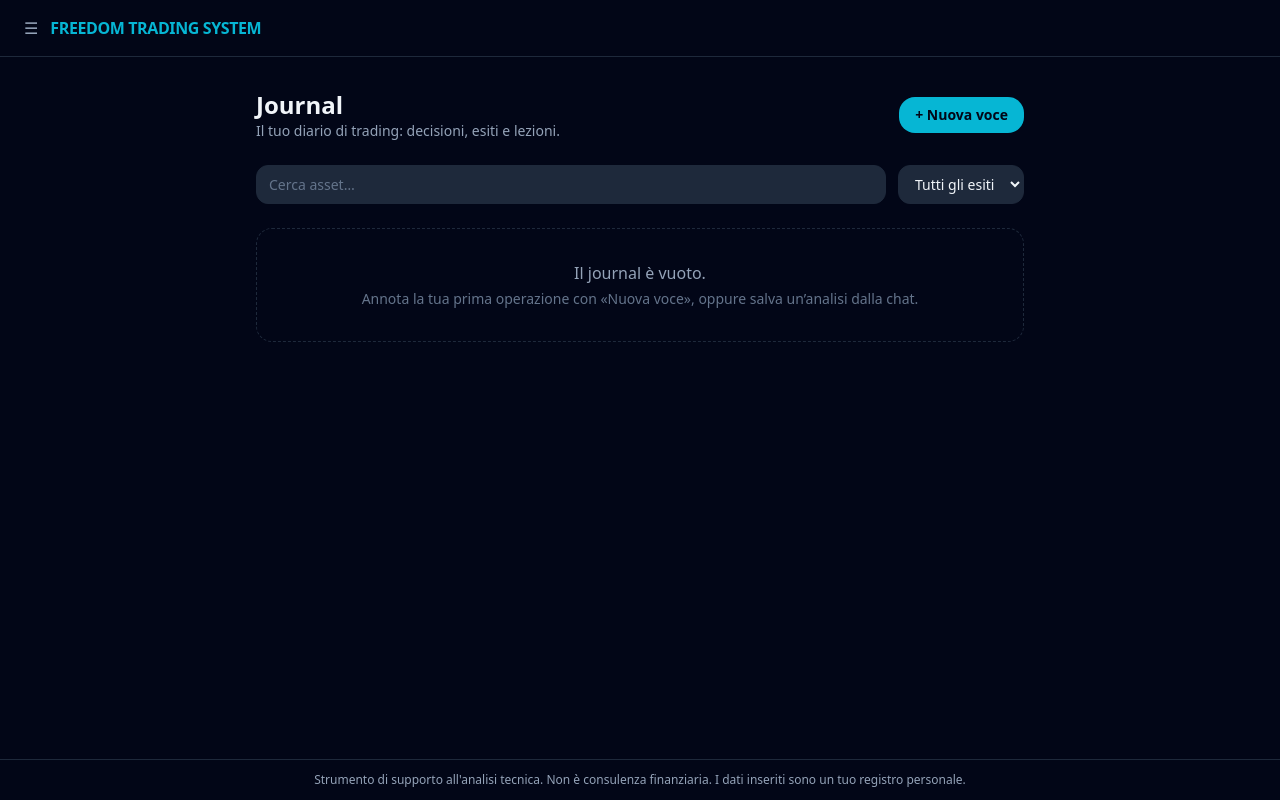
Test: Journal (pagina) › crea una nuova voce dal form
Expected: the text "Il journal è vuoto." is shown, [574,262,706,284]
Click the button "+ Nuova voce".
click(962, 115)  # box [899,97,1024,133]
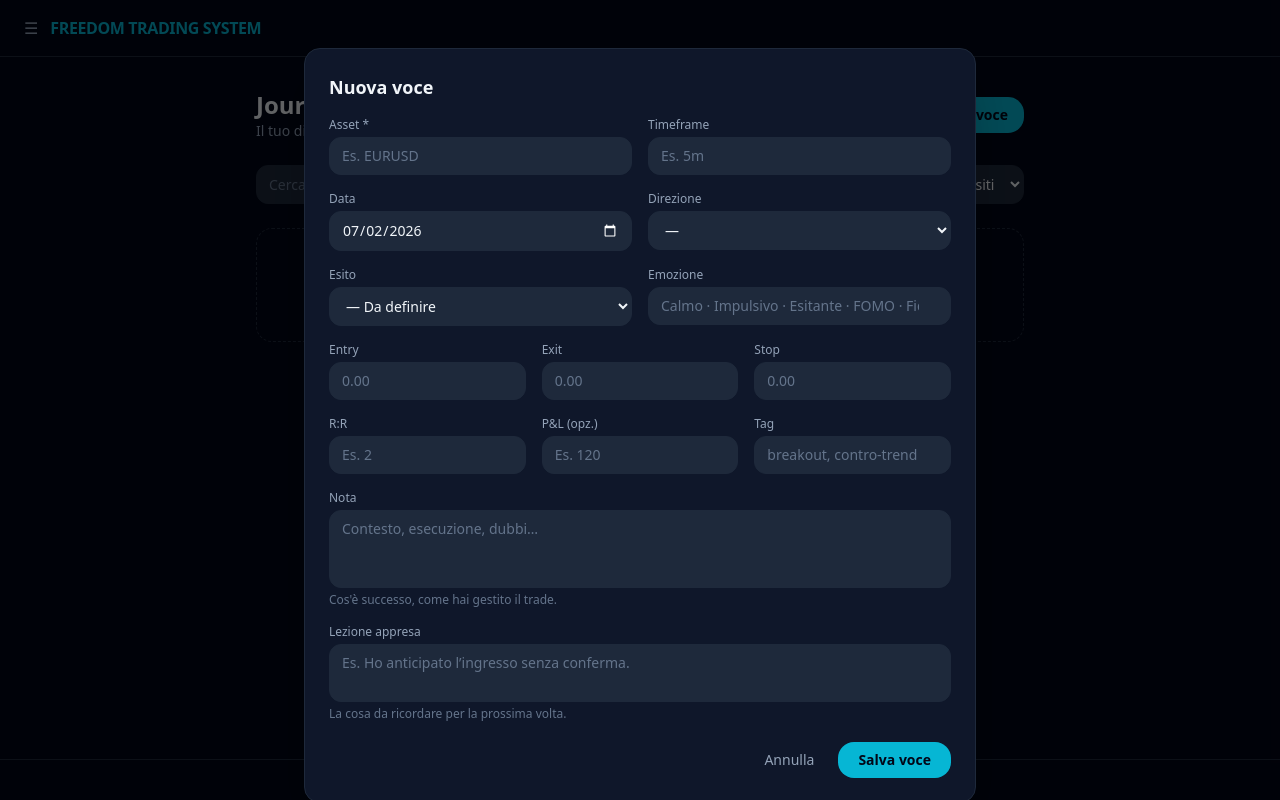
Type "GBPUSD" into the field labelled "Asset *".
click(480, 156); type("GBPUSD")  # box [329,137,632,175]
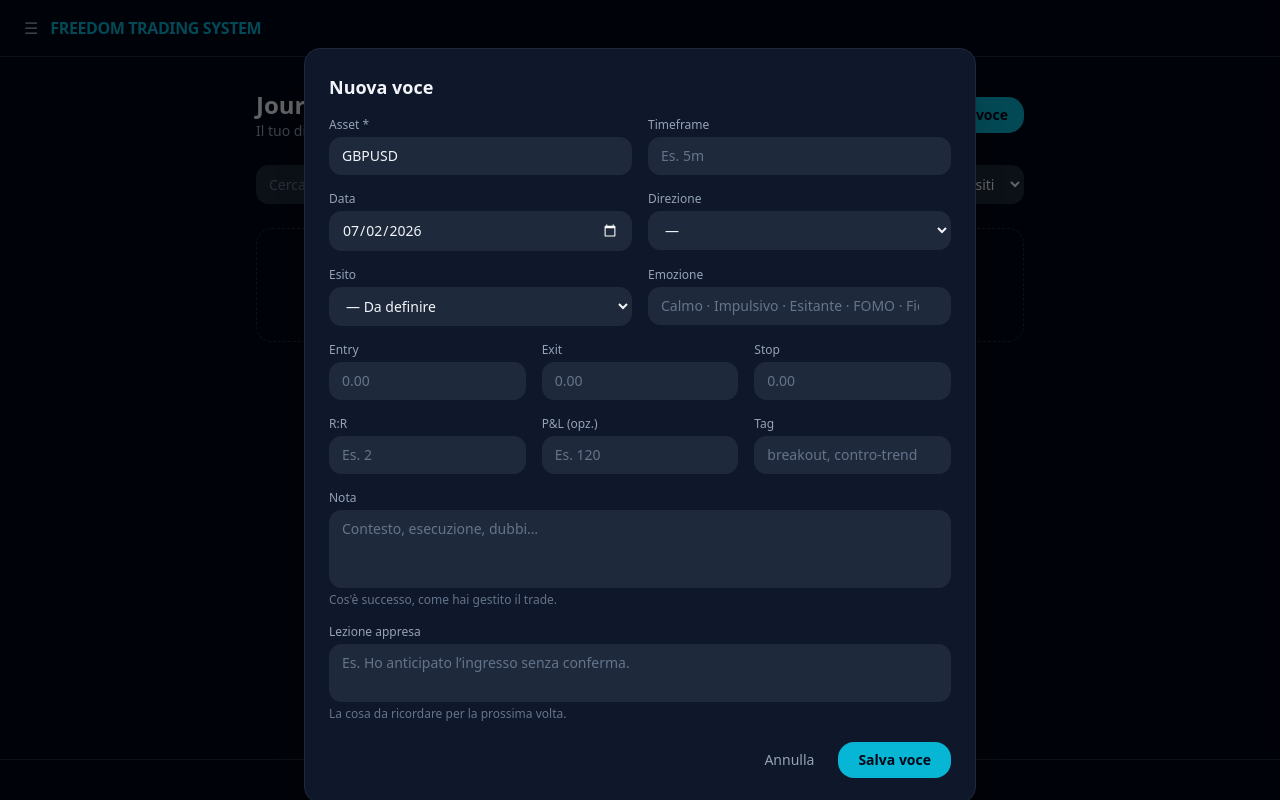
Click the button "Salva voce".
click(895, 760)  # box [838,742,951,778]
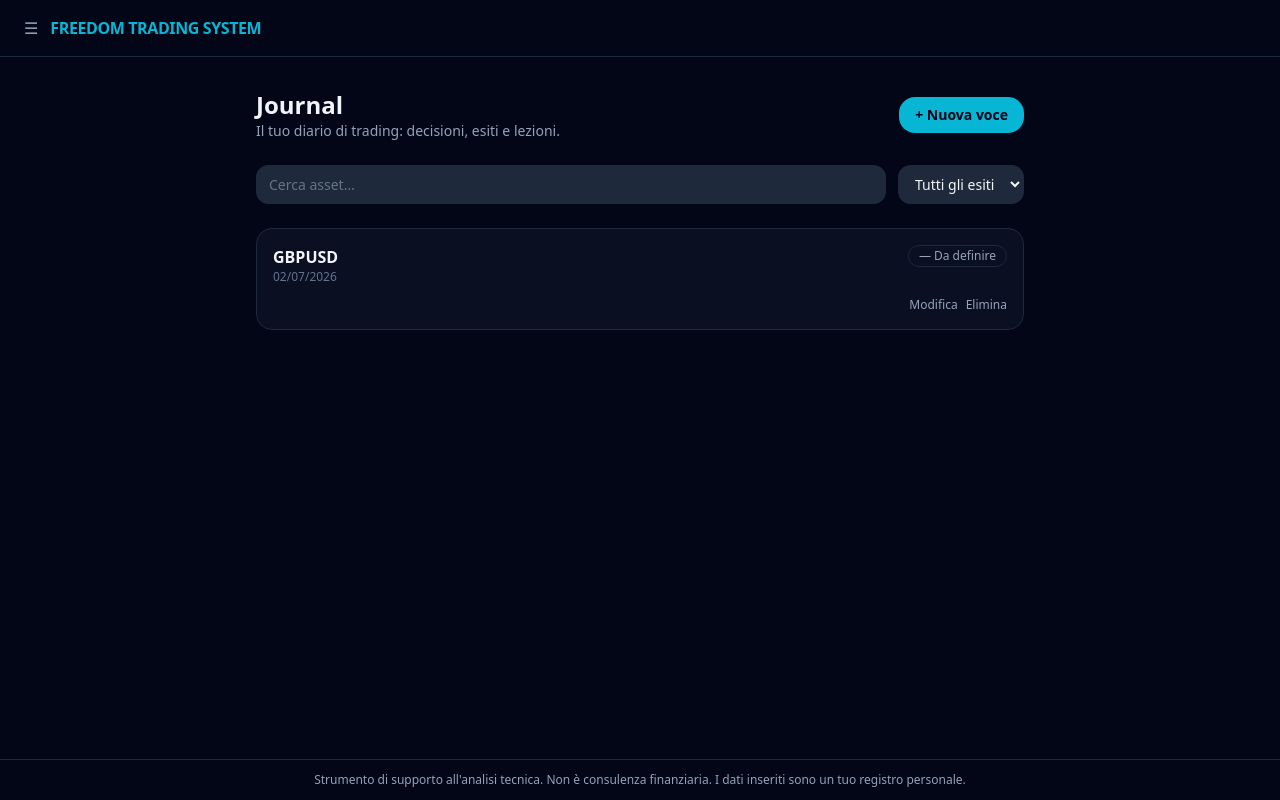
Now the text "GBPUSD" is shown, box [273,245,338,269]
